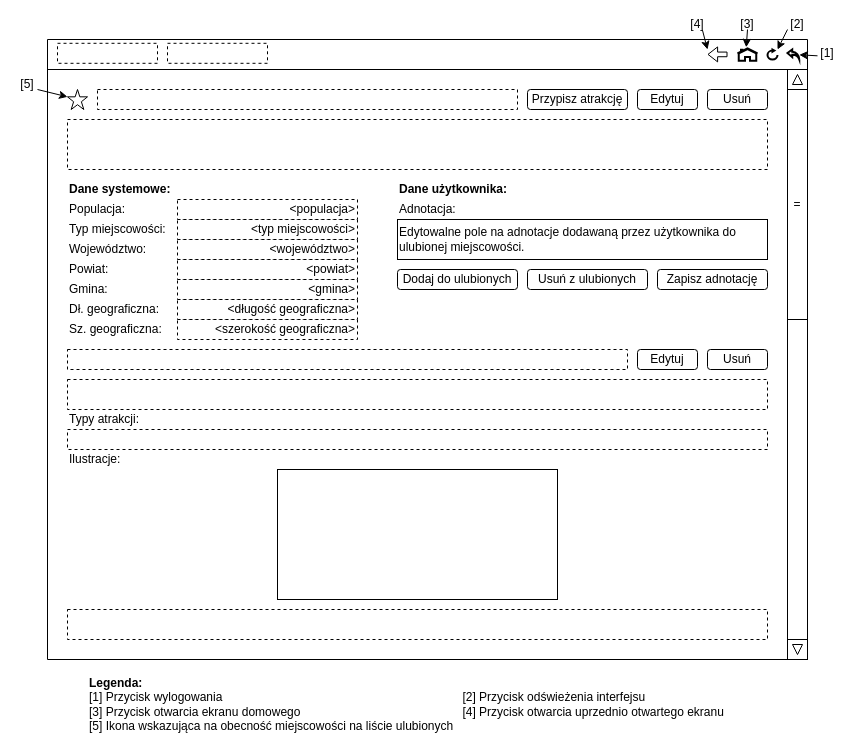
The diagram is 854 pixels wide and 756 high, and some of its shapes have lost their labels. Here are the shapes that lost their labels. From the top down, the centre of each, then its label:
At (107,52): "login".
At (217,52): "rola".
At (307,99): "<Nazwa miejscowości>".
At (417,144): "opis miejscowości".
At (347,359): "<nazwa atrakcji 1 z n> , <adres atrakcji 1 z n w tej miejscowości>".
At (417,394): "opis atrakcji 1 z n".
At (417,439): "wymienione po przecinku typy atrackji 1 z n".
At (417,534): "Ilustracja 1 z k atrakcji 1 z n".
At (417,624): "opis ilustracji 1 z k atrakcji 1 z n".
